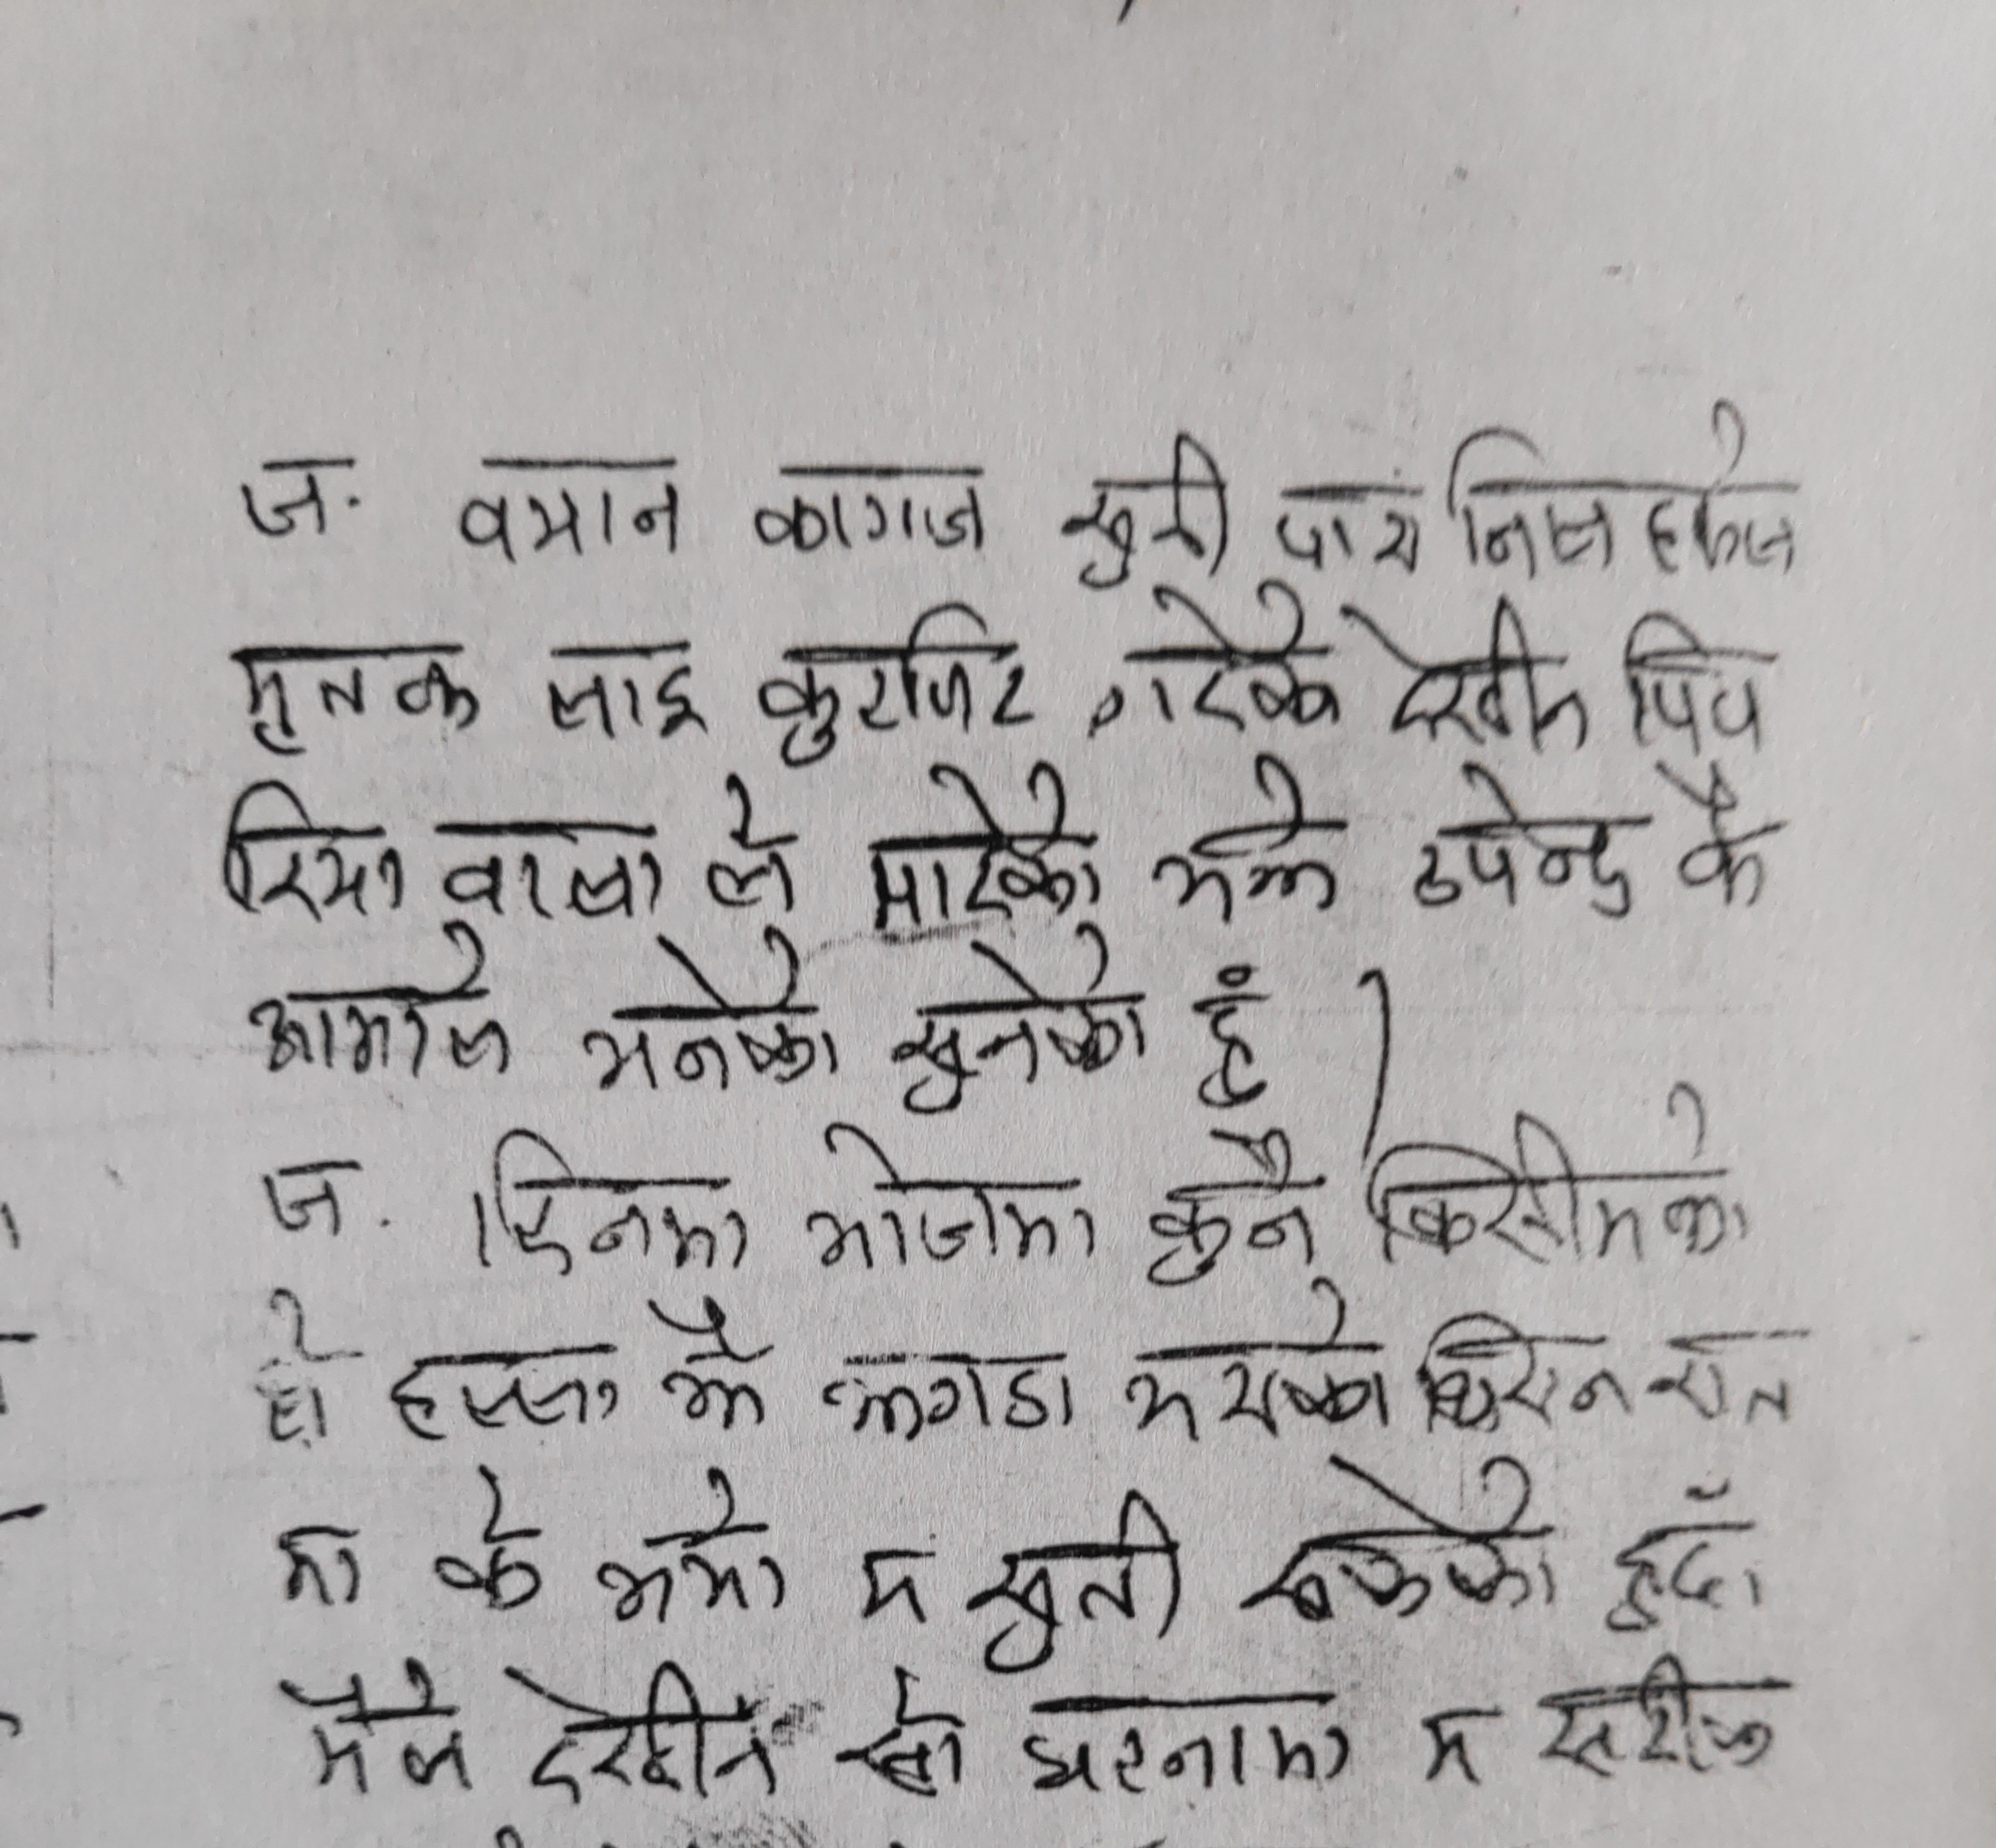text: (1354, 1087, 1747, 1267), (1447, 398, 1806, 588), (1236, 1441, 1577, 1625), (883, 937, 1163, 1116), (800, 1121, 1114, 1276), (572, 927, 850, 1099), (1012, 1669, 1365, 1805), (756, 593, 1043, 758), (494, 1653, 779, 1815), (1083, 574, 1361, 739), (1120, 1281, 1403, 1443), (471, 1125, 760, 1281), (968, 1481, 1191, 1678), (866, 761, 1123, 927), (249, 932, 520, 1083), (1370, 586, 1598, 765), (1412, 758, 1640, 927), (1139, 748, 1351, 921), (1534, 1653, 1786, 1792), (223, 629, 490, 758), (593, 1476, 807, 1631), (202, 779, 419, 923), (1139, 1125, 1323, 1292), (264, 1655, 468, 1801), (1412, 1306, 1636, 1438), (440, 445, 689, 563), (1059, 422, 1236, 588), (1598, 1476, 1780, 1631), (821, 1342, 1097, 1443), (751, 449, 993, 563), (391, 1335, 628, 1446), (433, 814, 675, 918), (1620, 614, 1773, 756), (647, 1295, 789, 1441), (542, 635, 718, 751), (424, 1460, 548, 1625), (826, 1674, 982, 1796), (1643, 1325, 1815, 1434), (1659, 767, 1780, 913), (240, 1283, 339, 1460), (1274, 482, 1420, 581), (231, 449, 367, 553), (1186, 963, 1285, 1106), (704, 784, 812, 911), (254, 1149, 367, 1245), (273, 1518, 369, 1613), (836, 1540, 927, 1631), (1412, 1698, 1494, 1798)
